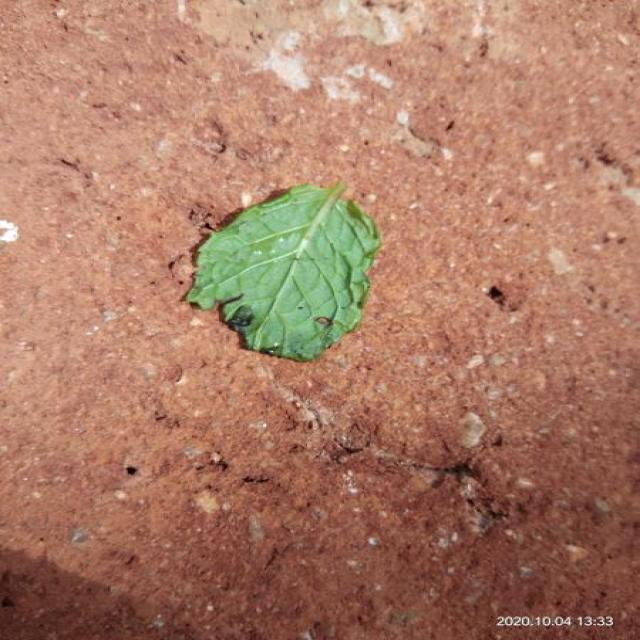mint: (187, 182, 382, 361)
